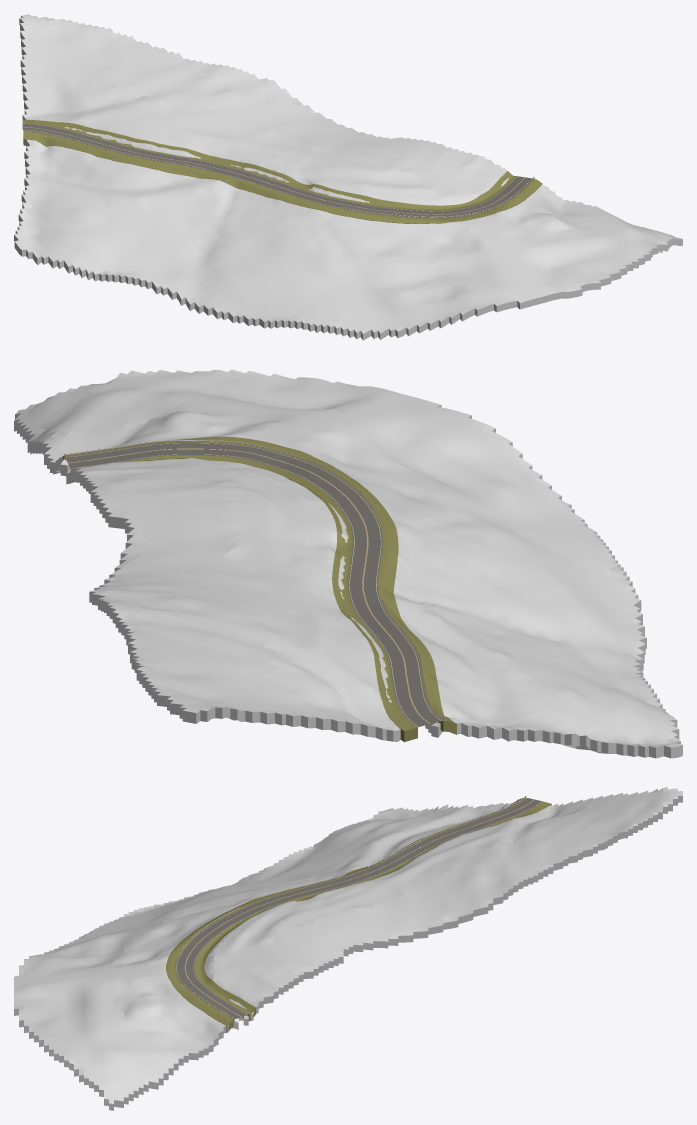
The model's file is conz_143.glb.
3 renders of one model, top to bottom at view 1: azimuth 30°, elevation 25°; view 2: azimuth 150°, elevation 25°; view 3: azimuth 270°, elevation 25°, orthographic. The views are drawn at different scales.
Parts seen in each view (by area): view 1: terrain143, road143, verge143L, verge143R; view 2: terrain143, road143, verge143L, verge143R, paint_white143, paint_yellow143; view 3: terrain143, road143, verge143L, verge143R.
Part boxes in pixels (x1,y1,x2,y2): terrain143: (14, 14, 682, 340); road143: (23, 123, 532, 218); verge143L: (23, 131, 542, 223); verge143R: (22, 119, 516, 210); terrain143: (14, 369, 682, 758); road143: (65, 442, 442, 727); verge143L: (62, 436, 456, 734); verge143R: (70, 455, 417, 742); paint_white143: (66, 443, 441, 726); paint_yellow143: (69, 448, 430, 723); terrain143: (14, 787, 682, 1110); road143: (176, 797, 542, 1019); verge143L: (166, 798, 525, 1032); verge143R: (194, 801, 551, 1020).
Bounding box in the file's own units: 254 × 56.79 × 268.
